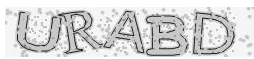A: (102, 9, 145, 55)
B: (145, 15, 190, 56)
D: (191, 11, 235, 55)
R: (57, 10, 104, 57)
U: (15, 10, 62, 53)
